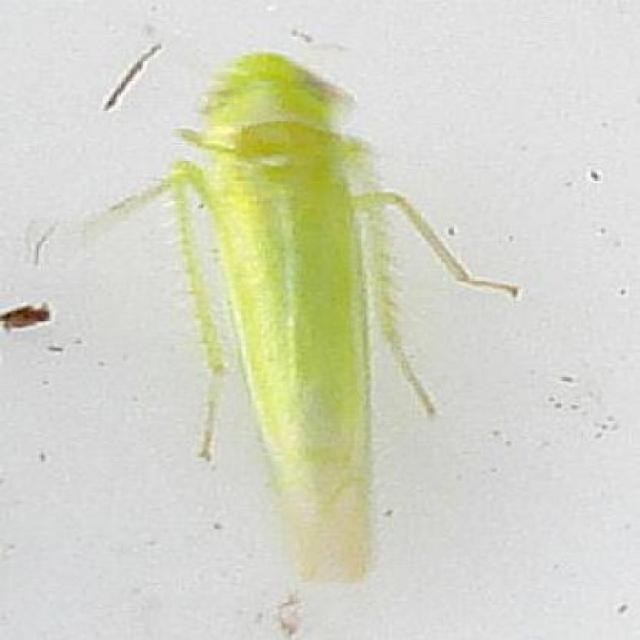green-leafhopper: (165, 45, 517, 576)
